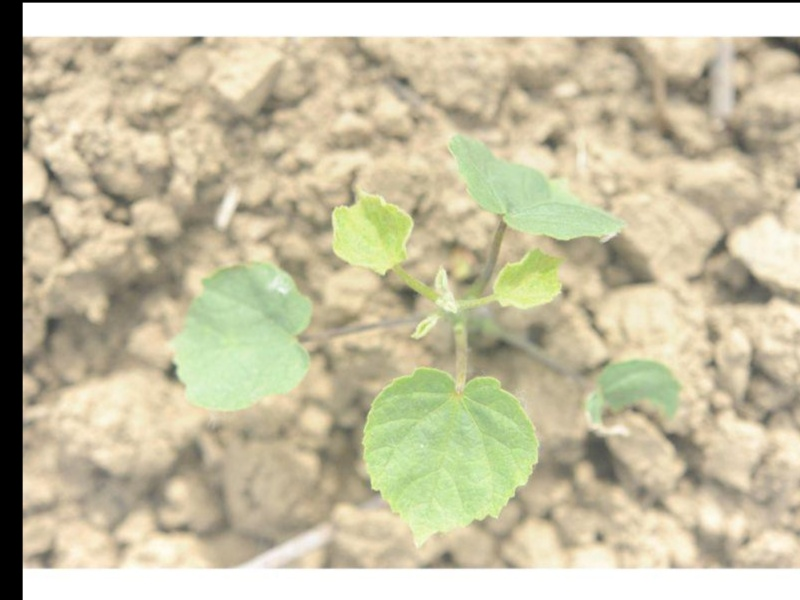velvet: (173, 139, 683, 541)
